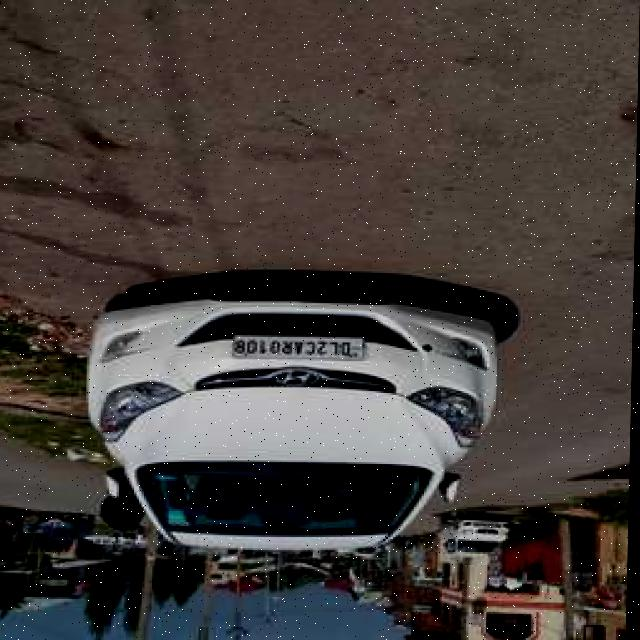plate: (230, 335, 365, 361)
